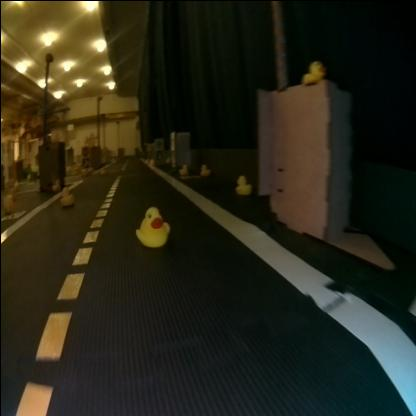Duckie: (134, 206, 168, 244), (300, 61, 322, 82), (234, 173, 250, 191), (58, 186, 72, 204), (199, 162, 208, 174), (178, 163, 186, 173), (51, 180, 59, 188)
